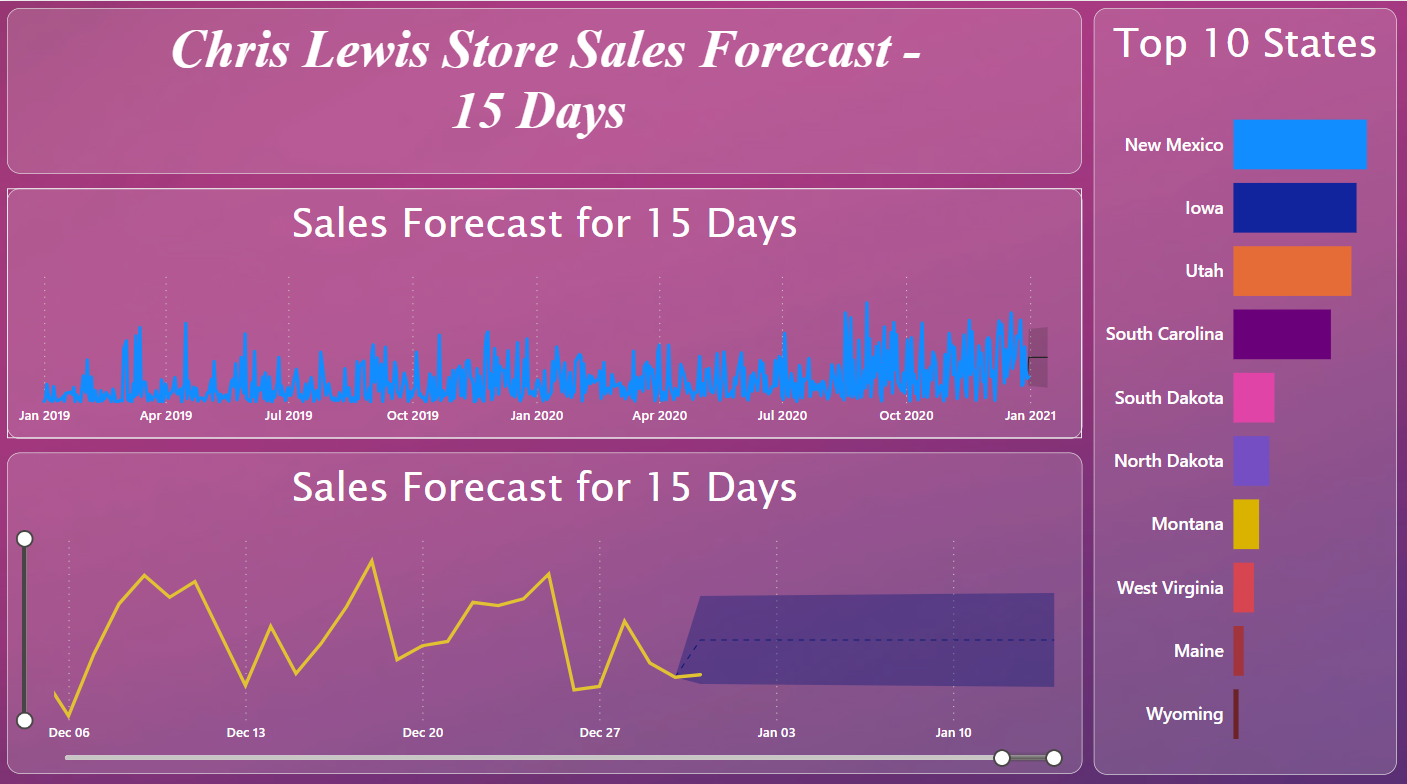

What the dashboard file says about the page in this screenshot:
{"tool":"powerbi","page":{"name":"Page 2","canvas":[1280,720],"ordinal":1},"visuals":[{"type":"lineChart","title":"Sales Forecast for 15 Days","fields":{"Y":["Sheet1.Sales"],"Category":["Sheet1.Order Date"]},"box":[5.8,169.6,975.4,227.5],"z":0},{"type":"lineChart","title":"Sales Forecast for 15 Days","fields":{"Y":["Sheet1.Sales"],"Category":["Sheet1.Order Date"]},"box":[5.8,410.1,975.4,291.3],"z":1000},{"type":"clusteredBarChart","title":"Top 10 States","fields":{"Category":["Sheet1.State"],"Y":["Sheet1.Order Date"]},"box":[992.1,6.3,274.6,695.2],"z":2000},{"type":"textbox","box":[6,7,975,150],"z":3000}]}

Visuals, with their boxes in screenshot pixels (x1, y1, x2, y2), scaled from the page's 1280x720 canvas onto the 1407x784 screenshot:
"Sales Forecast for 15 Days" lineChart: 6,185,1079,432
"Sales Forecast for 15 Days" lineChart: 6,447,1079,764
"Top 10 States" clusteredBarChart: 1091,7,1392,764
textbox: 7,8,1078,171
